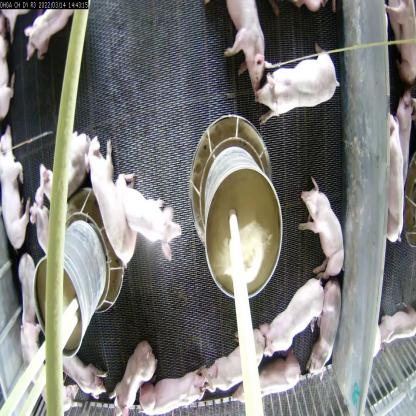Pig: (251, 32, 341, 132), (89, 155, 141, 266), (124, 174, 180, 270), (218, 0, 268, 106), (247, 280, 318, 354), (297, 167, 343, 280), (10, 254, 46, 394), (0, 115, 29, 266), (198, 332, 260, 400), (43, 124, 94, 206), (104, 340, 152, 408), (307, 275, 340, 366), (242, 356, 296, 407), (140, 371, 199, 415)
